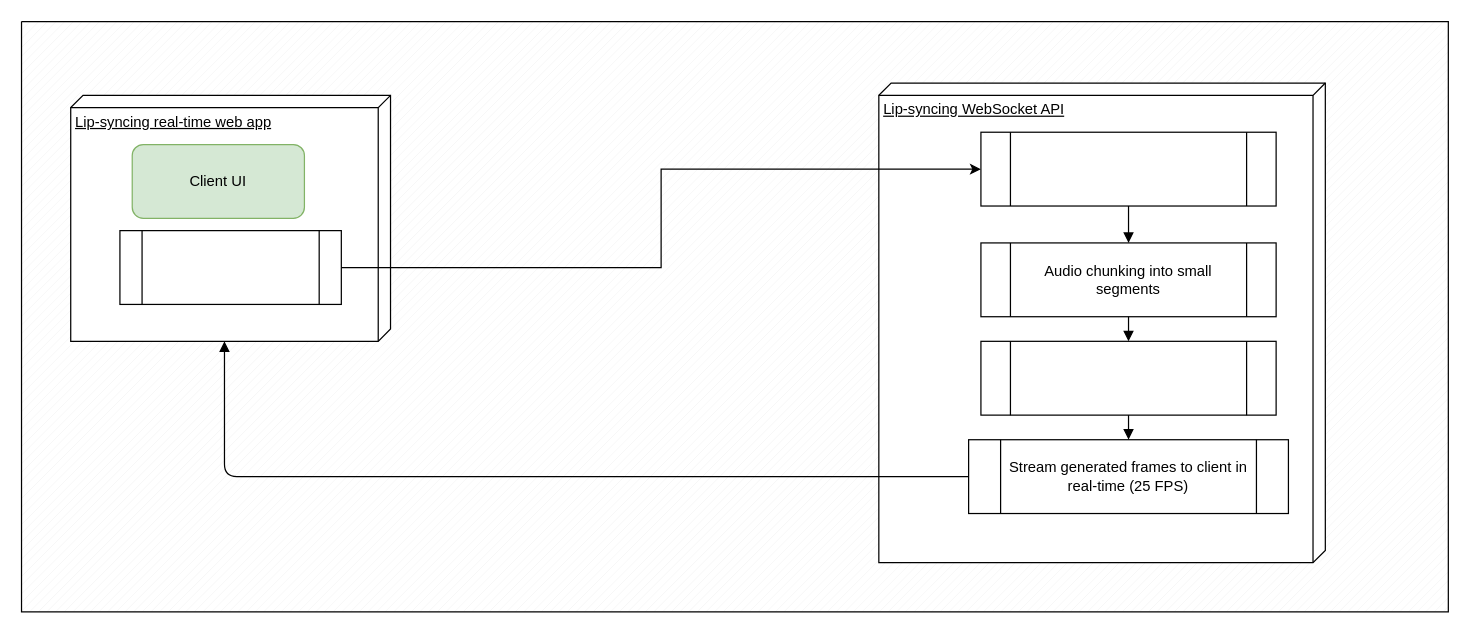
Some shapes in this 1470 by 633 pixel diagram are drawn without their labels. The shapes that lost their labels are listed below. From the top down, each one's centre as x and y in pixels, then its label:
At (x=1128, y=168): "Server saves image & audio to local folder".
At (x=230, y=266): "User uploads image & audio".
At (x=1128, y=377): "Run Face Detection + Wav2Lip on chunks".
